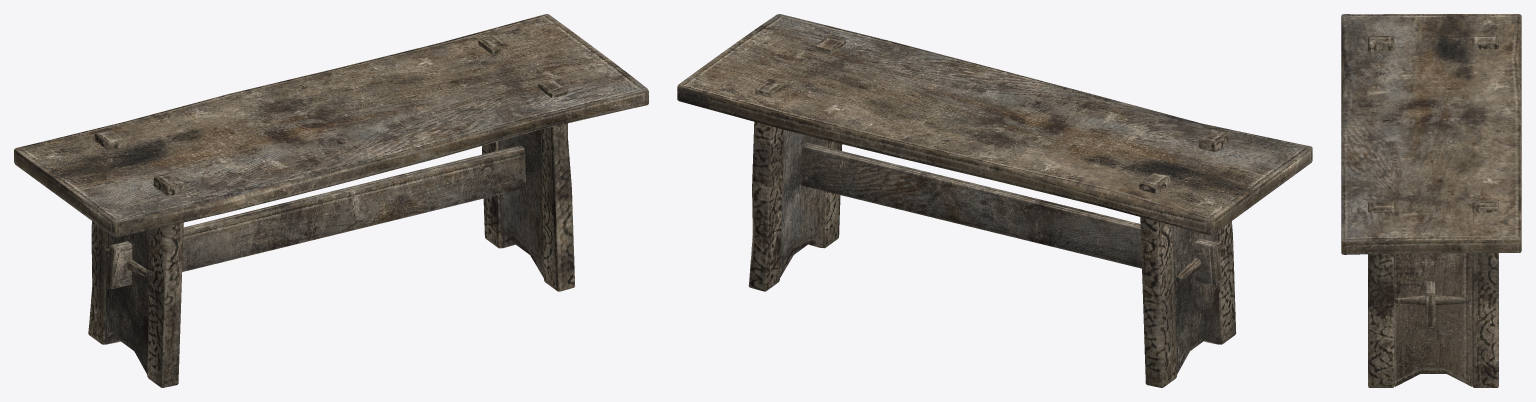
File: Bench.fbx
The picture shows the model from 3 angles, left to right: view 1: azimuth 30°, elevation 25°; view 2: azimuth 150°, elevation 25°; view 3: azimuth 270°, elevation 25°; orthographic projection. The views are drawn at different scales.
Visible parts, largest first — view 1: Bench; view 2: Bench; view 3: Bench.
Boxes of the visible parts, bbox=[...] form: Bench: bbox=[14, 14, 648, 387]; Bench: bbox=[677, 14, 1312, 387]; Bench: bbox=[1341, 14, 1521, 387].
Size of the model in its own units: 182 by 65.28 by 60.15.
